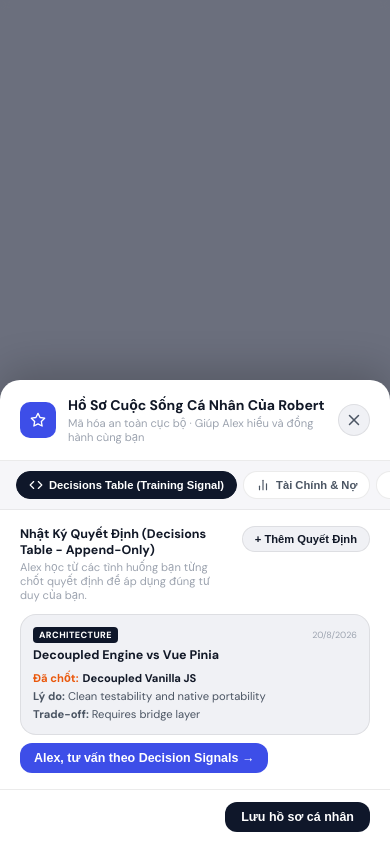
Test: RobertLifeContextModal › saves profile updates to memoryStore
Click the button "Lưu hồ sơ cá nhân" at (298, 817), box x1=225 y1=802 x2=370 y2=832
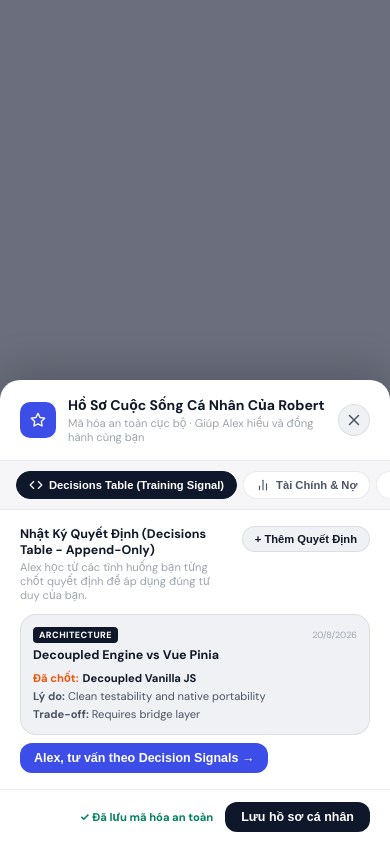
Now the text "Đã lưu mã hóa an toàn" is shown, box x1=80 y1=810 x2=213 y2=824
